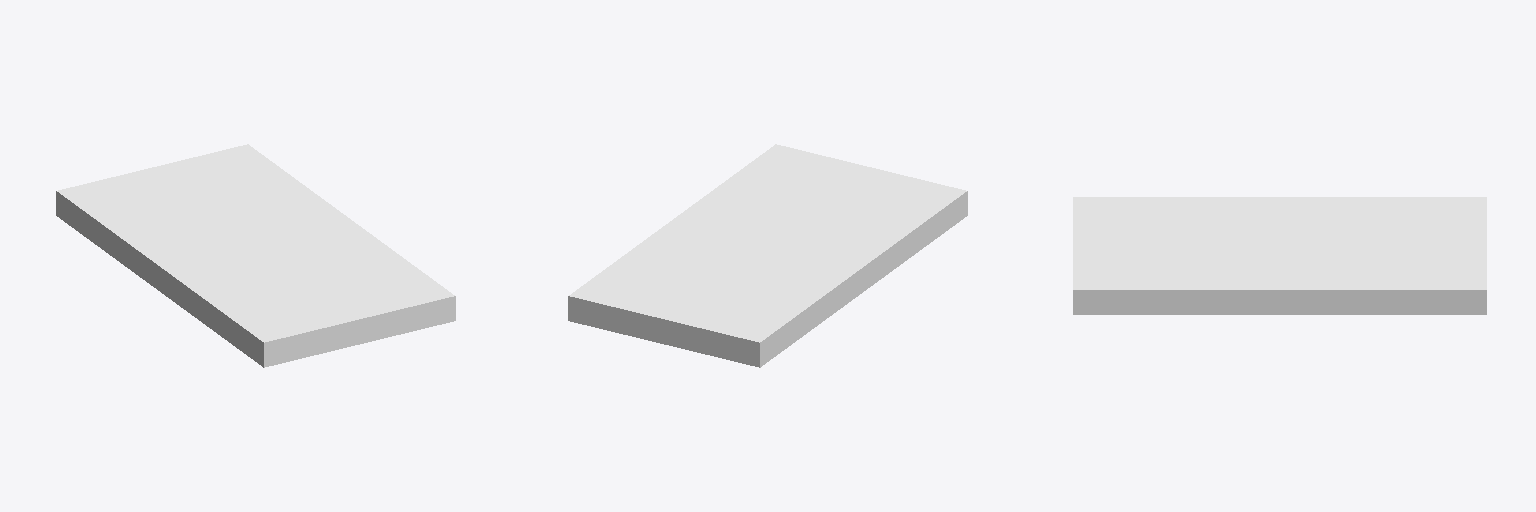
The model's file is Computers-5.obj.
3 renders of one model, left to right at view 1: azimuth 30°, elevation 25°; view 2: azimuth 150°, elevation 25°; view 3: azimuth 270°, elevation 25°, orthographic.
Visible parts, largest first — view 1: Computers-5; view 2: Computers-5; view 3: Computers-5.
Part boxes in pixels (bbox=[...]): Computers-5: bbox=[56, 144, 455, 367]; Computers-5: bbox=[568, 144, 967, 367]; Computers-5: bbox=[1073, 197, 1486, 314].
Size of the model in its own units: 8 by 1 by 15.